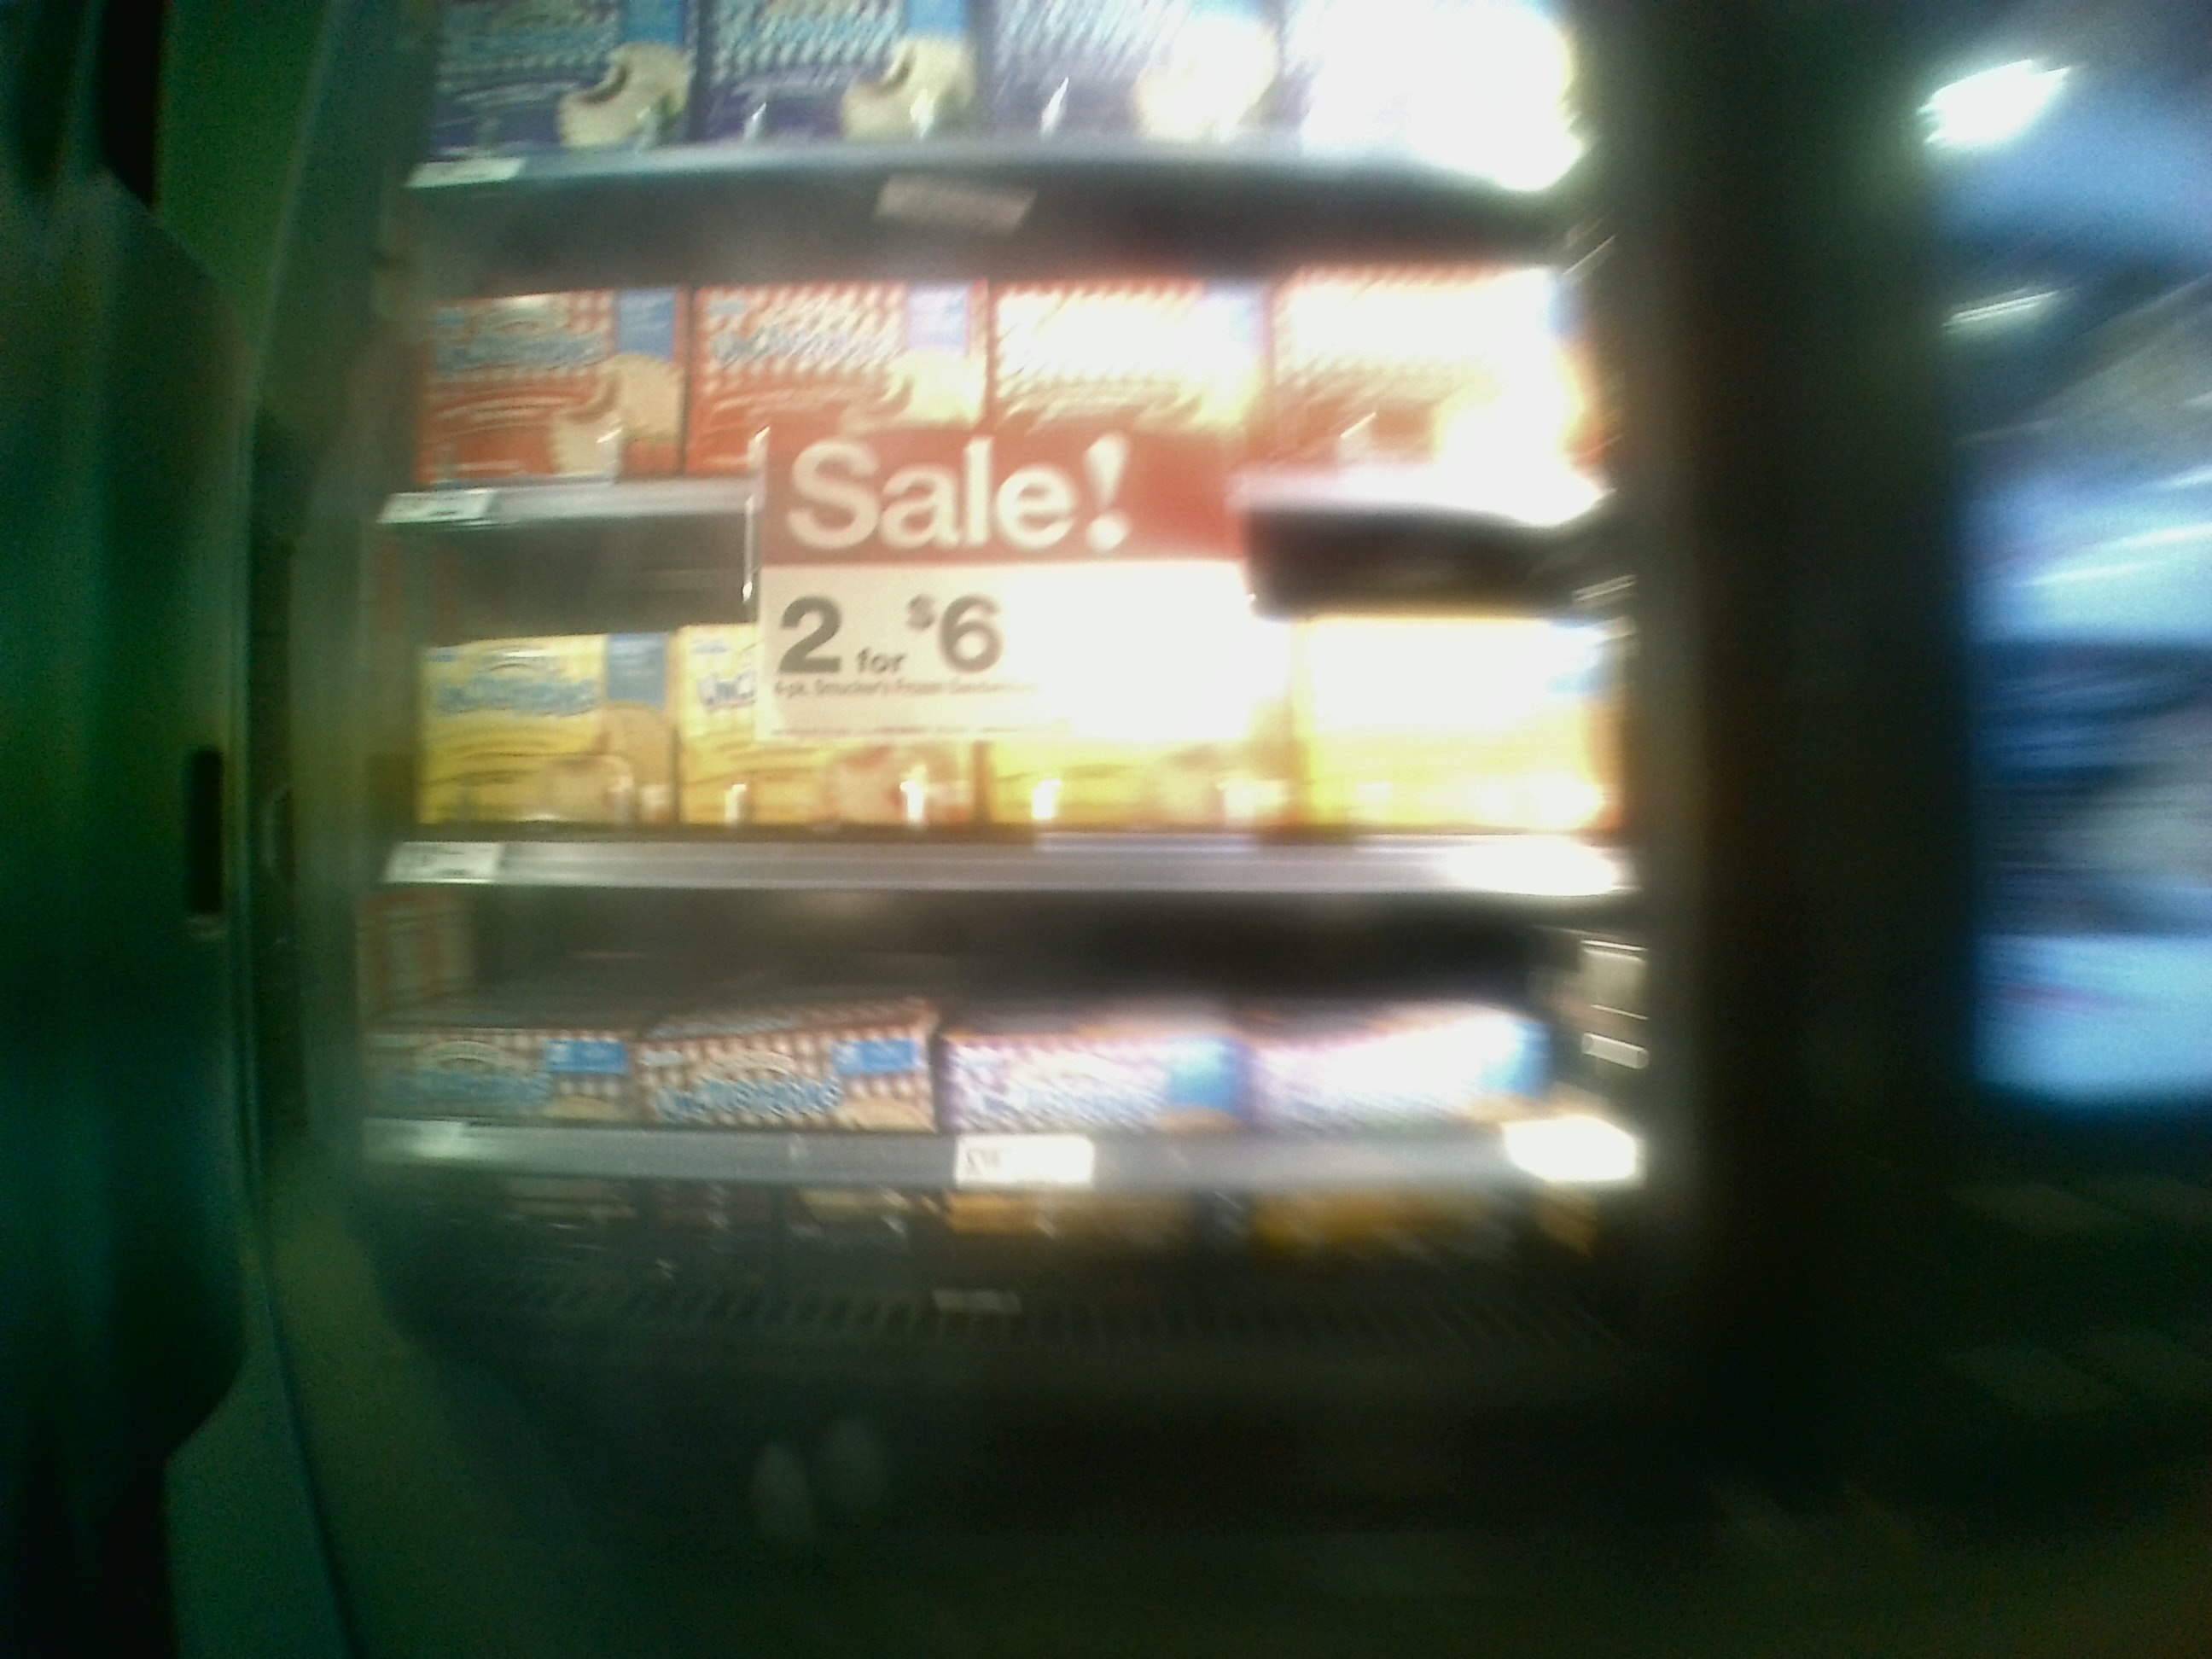shelf: (371, 538, 1622, 877), (359, 866, 1639, 1190), (380, 167, 1597, 507)
